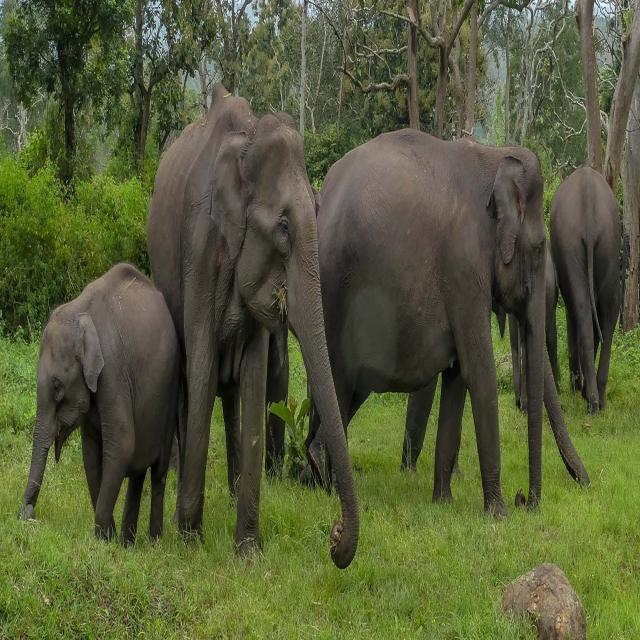Elephant: (150, 81, 358, 579), (314, 122, 548, 517), (27, 253, 179, 547), (548, 165, 626, 417)
